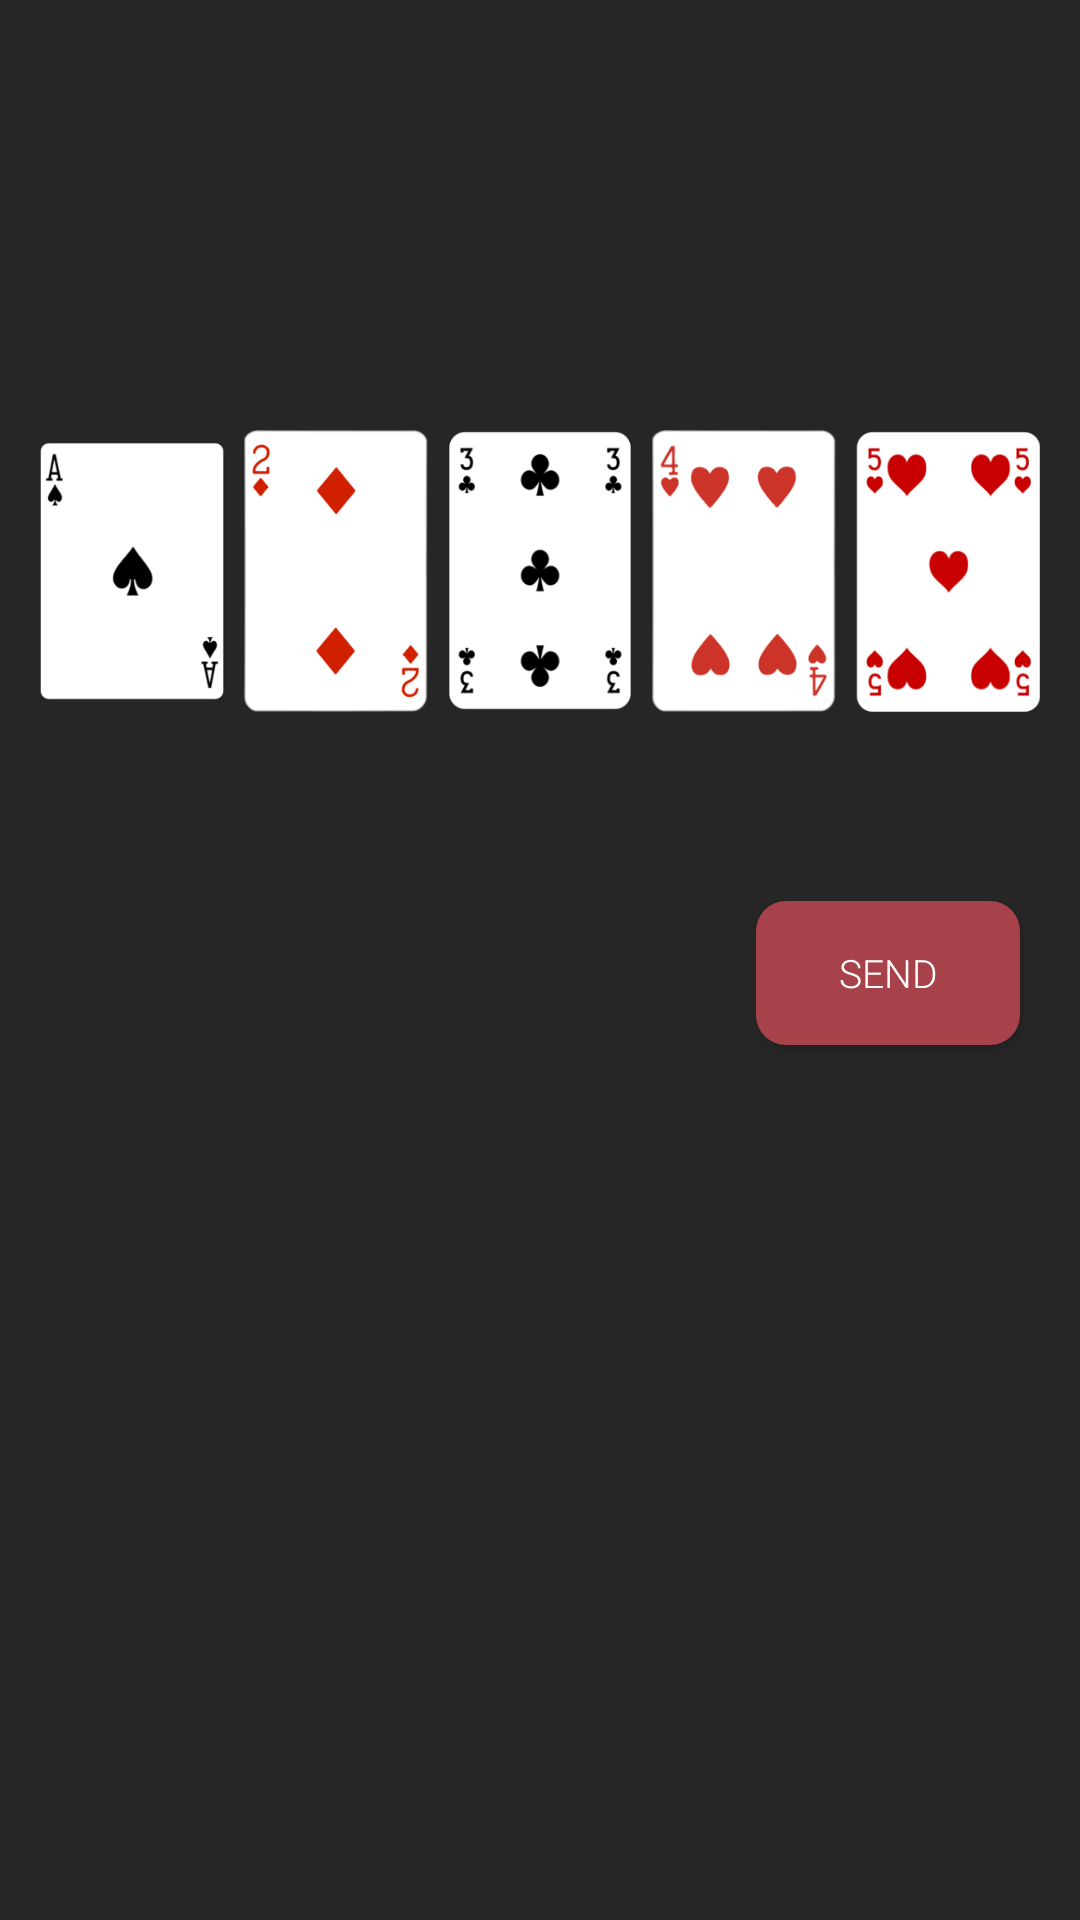

Screen size 1080x1920. Icon name, then its box in pixels as (x1, y1, x2, y2):
card: (244, 430, 428, 712), (652, 430, 836, 712), (449, 432, 631, 710), (856, 432, 1040, 712), (40, 443, 224, 700)
